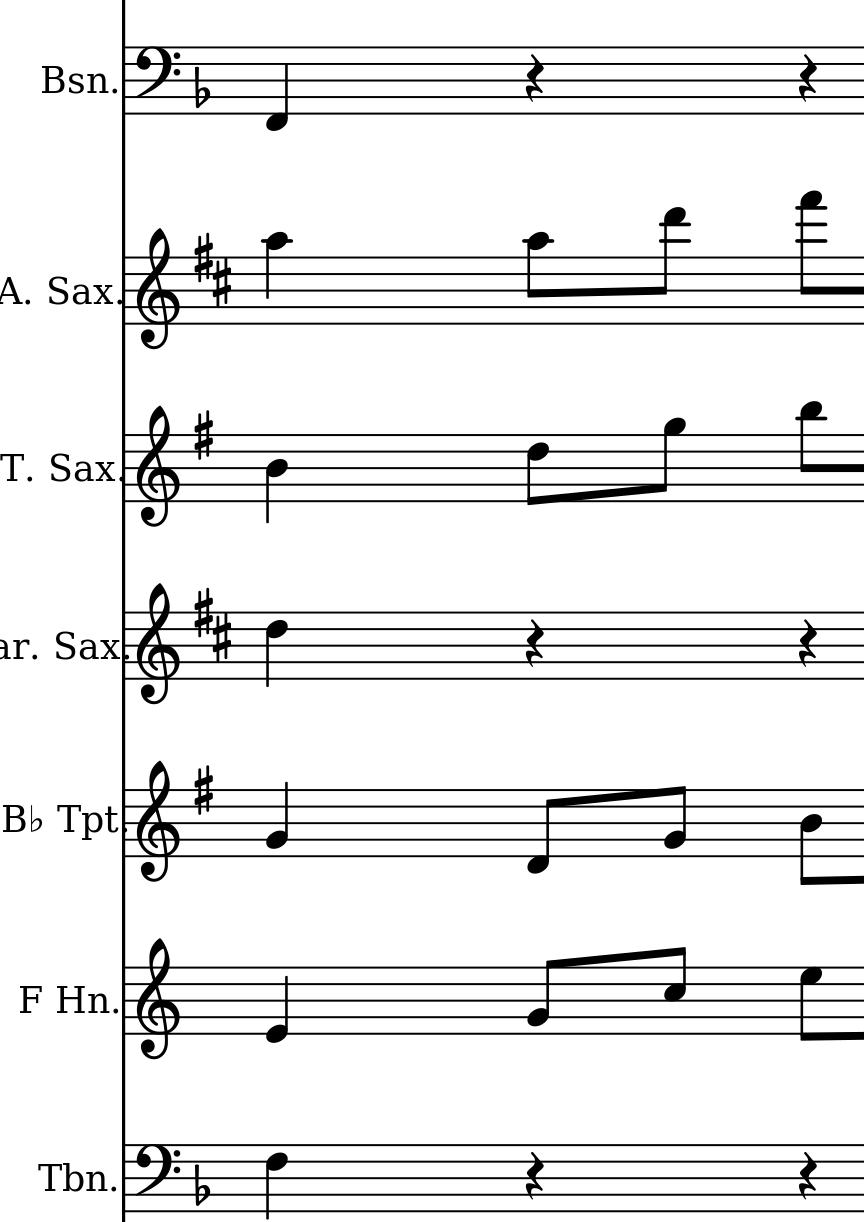4_-1: (263, 45, 292, 132)
4_0: (263, 964, 292, 1047)
4_10: (262, 230, 290, 327)
4_2: (266, 780, 292, 860)
4_4: (262, 433, 289, 526)
4_6: (263, 1140, 288, 1222), (263, 610, 288, 689)
8_-1: (526, 786, 559, 872)
8_10: (523, 231, 553, 328)
8_11: (796, 398, 827, 505)
8_13: (653, 206, 688, 329)
8_15: (796, 190, 826, 327)
8_2: (527, 956, 560, 1038), (663, 783, 691, 860)
8_4: (797, 783, 824, 890)
8_5: (662, 945, 689, 1038)
8_6: (526, 431, 553, 510)
8_7: (797, 964, 826, 1045)
8_9: (652, 416, 688, 504)
Bsn: (42, 62, 112, 101)
Fclef: (131, 43, 184, 118), (130, 1140, 179, 1214)
Flat: (191, 65, 211, 108), (194, 1162, 211, 1207)
Gclef: (133, 583, 183, 706), (134, 758, 181, 885), (135, 228, 181, 351), (135, 938, 182, 1058), (136, 405, 182, 526)
Hn: (53, 979, 110, 1023)
Rests4: (796, 1147, 820, 1200), (524, 52, 547, 105), (524, 1148, 546, 1202), (797, 53, 819, 104), (797, 618, 819, 667), (526, 619, 546, 668)
Sax: (53, 628, 117, 669), (46, 452, 115, 489), (49, 276, 115, 313)
Sharp: (190, 764, 218, 814), (191, 405, 213, 461)
Single_barline: (116, 1145, 136, 1212), (116, 966, 135, 1034), (117, 47, 136, 114), (117, 435, 136, 501), (118, 613, 135, 679), (117, 257, 133, 323), (118, 790, 133, 858)
Tbn: (32, 1152, 104, 1199)
Tpt: (56, 800, 117, 845)
